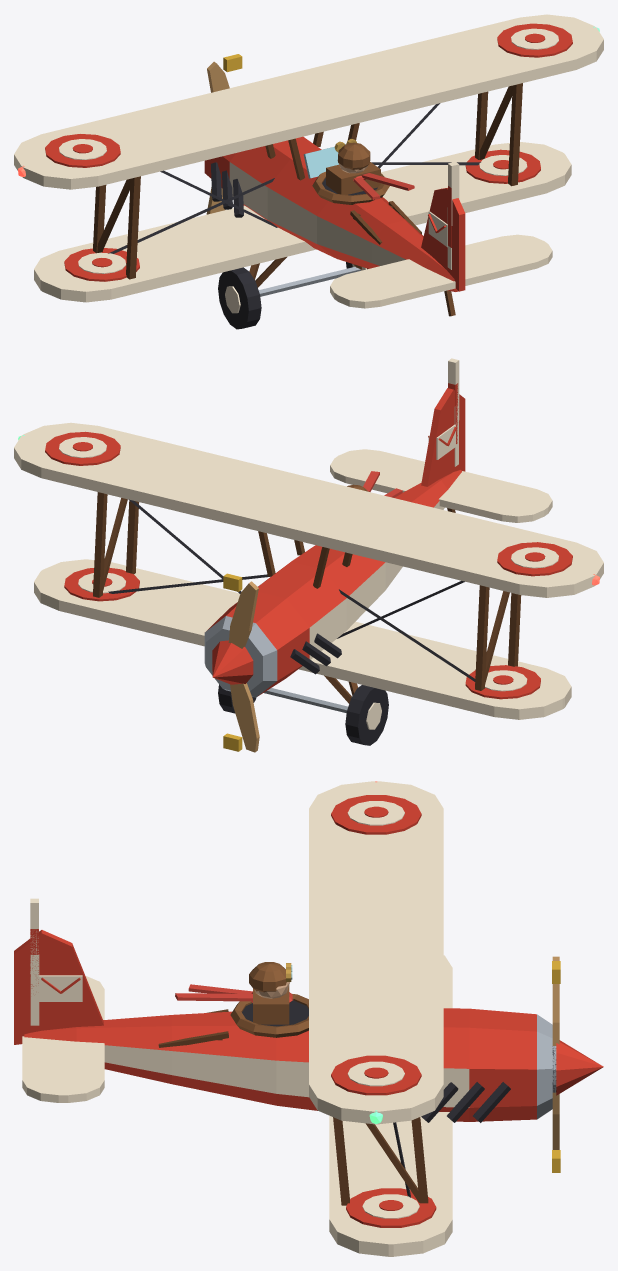
The picture shows the model from 3 angles, top to bottom: view 1: azimuth 30°, elevation 25°; view 2: azimuth 150°, elevation 25°; view 3: azimuth 270°, elevation 25°; orthographic projection. The views are drawn at different scales.
Parts seen in each view (by area): view 1: Plane, SPIN_Propeller; view 2: Plane, SPIN_Propeller; view 3: Plane, SPIN_Propeller.
Boxes of the visible parts, x1,y1,x2,y2 form: Plane: (14, 14, 603, 329); SPIN_Propeller: (206, 54, 242, 214); Plane: (14, 358, 603, 745); SPIN_Propeller: (212, 573, 259, 752); Plane: (14, 781, 556, 1256); SPIN_Propeller: (552, 956, 603, 1172).
Bounding box in the file's own units: 9.12 × 3.84 × 6.79.
